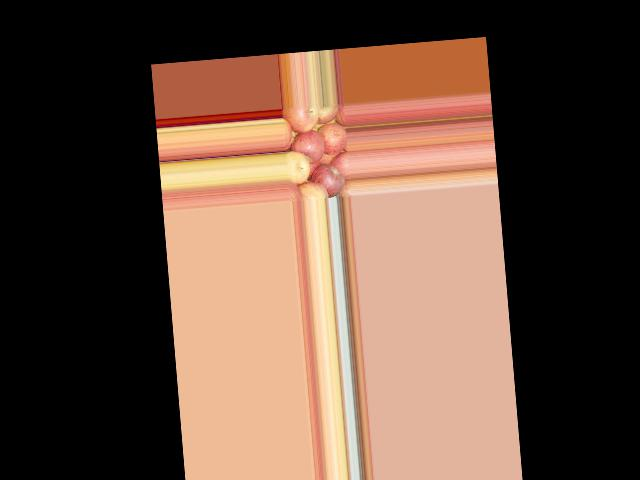apple: (316, 121, 347, 158)
